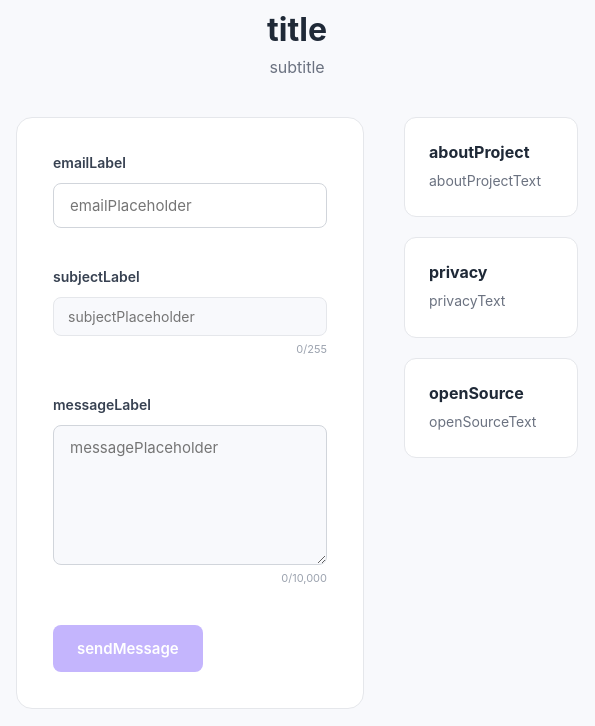
ContactPage › submits the form and shows success
This screenshot has width=595, height=726.
In the field labelled "emailLabel": (190, 206) [53,183,327,228], type "test@example.com"
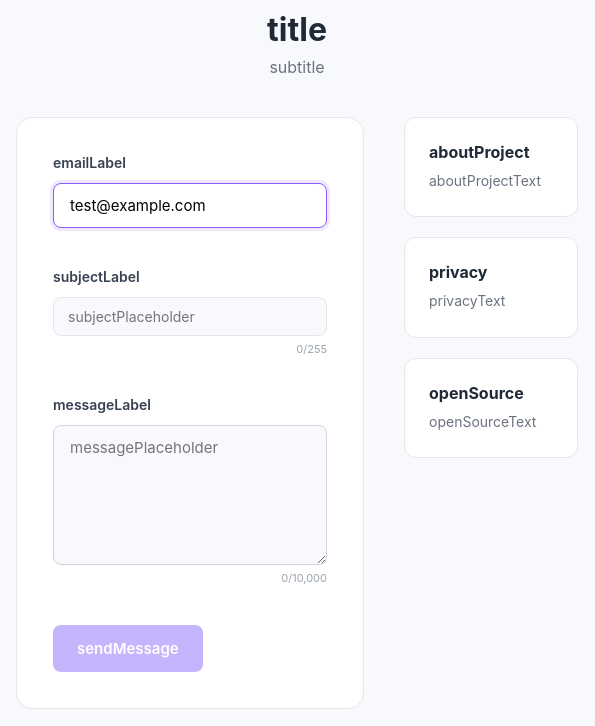
In the field labelled "subjectLabel": (190, 316) [53,297,327,336], type "Test Subject"
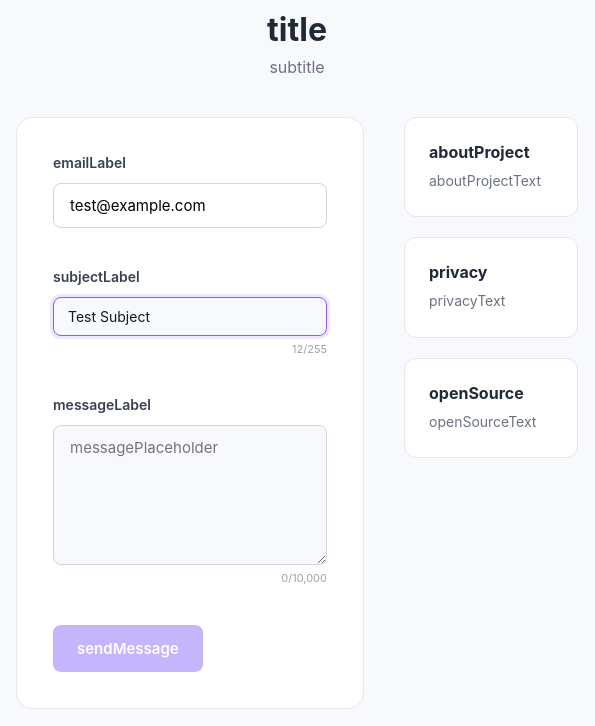
In the text box labelled "messageLabel": (190, 495) [53,425,327,565], type "Test body"
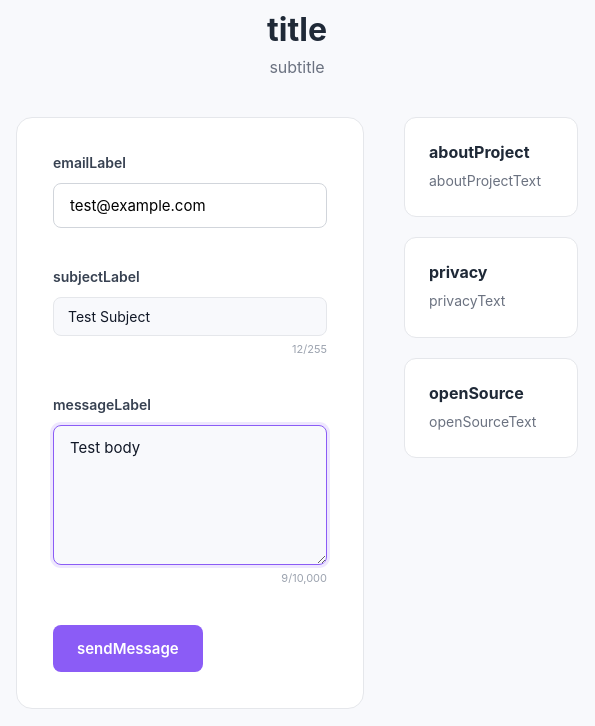
Click the button "sendMessage": (128, 648) [53,625,203,672]
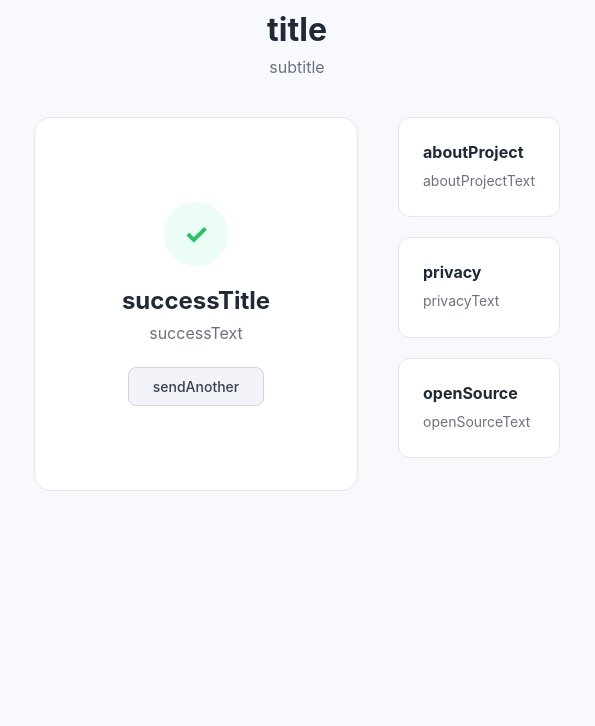
Now the heading "successTitle" is shown, box [122,286,270,315]
